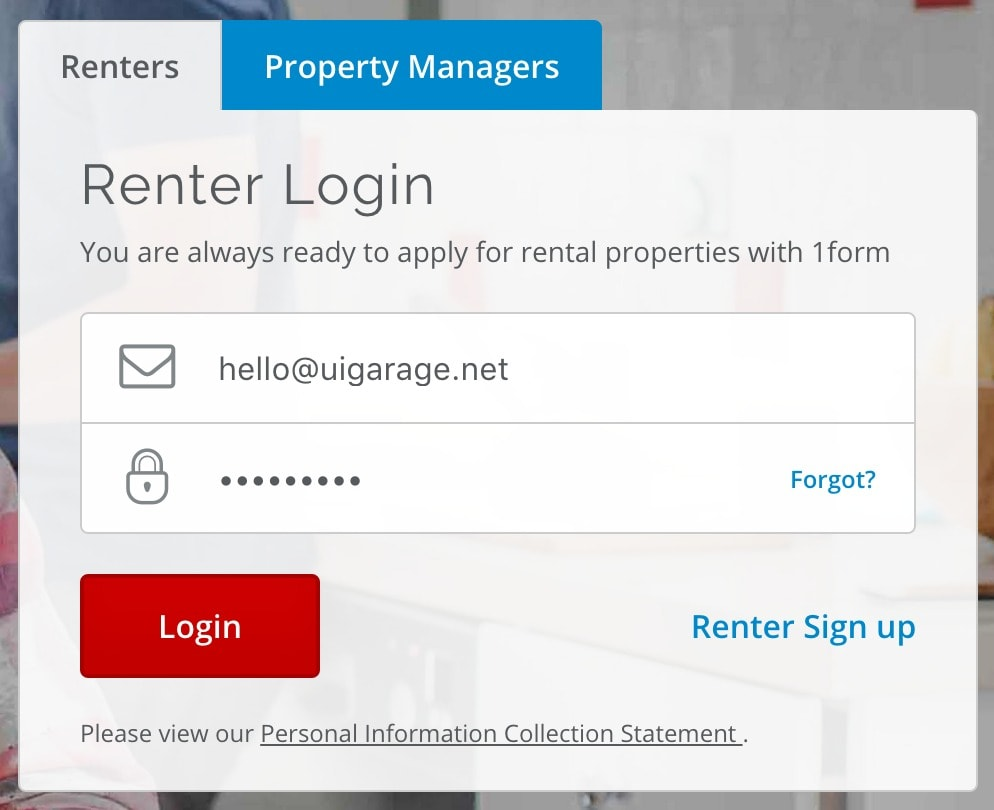_form_: (72, 289, 931, 689)
button: (79, 572, 321, 679)
field: (76, 420, 918, 535), (79, 311, 916, 426)
